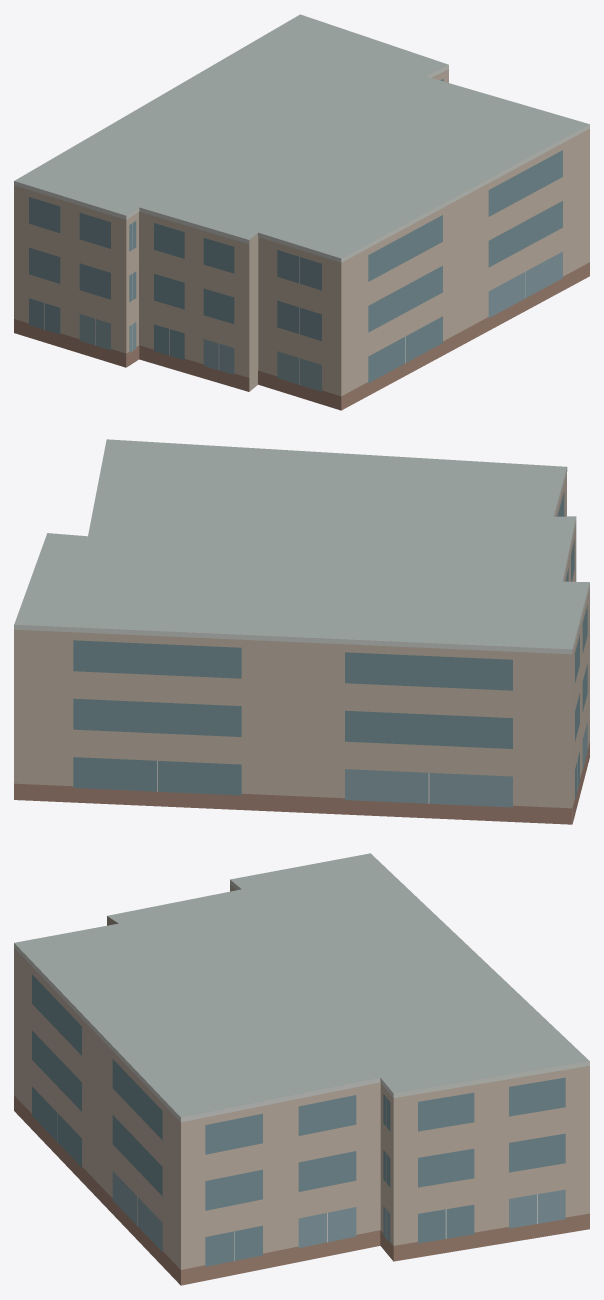
Rendered from survey-upis-33022660.glb.
3 renders of one model, top to bottom at view 1: azimuth 30°, elevation 25°; view 2: azimuth 150°, elevation 25°; view 3: azimuth 270°, elevation 25°, orthographic. The views are drawn at different scales.
Parts seen in each view (by area): view 1: survey-upis-33022660.tmp; view 2: survey-upis-33022660.tmp; view 3: survey-upis-33022660.tmp.
Part boxes in pixels (x1,y1,x2,y2): survey-upis-33022660.tmp: [14, 14, 589, 410]; survey-upis-33022660.tmp: [14, 439, 589, 824]; survey-upis-33022660.tmp: [14, 853, 589, 1285].
Size of the model in its own units: 29.36 by 8.7 by 27.03.
